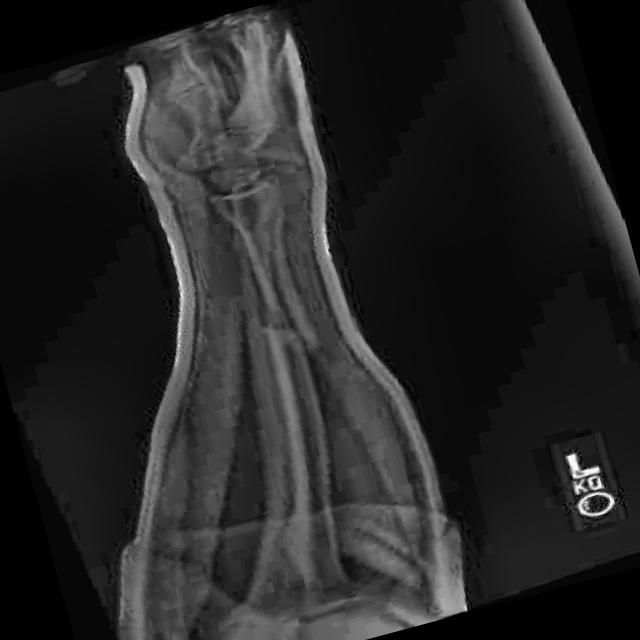forearm fracture: (228, 283, 348, 395)
